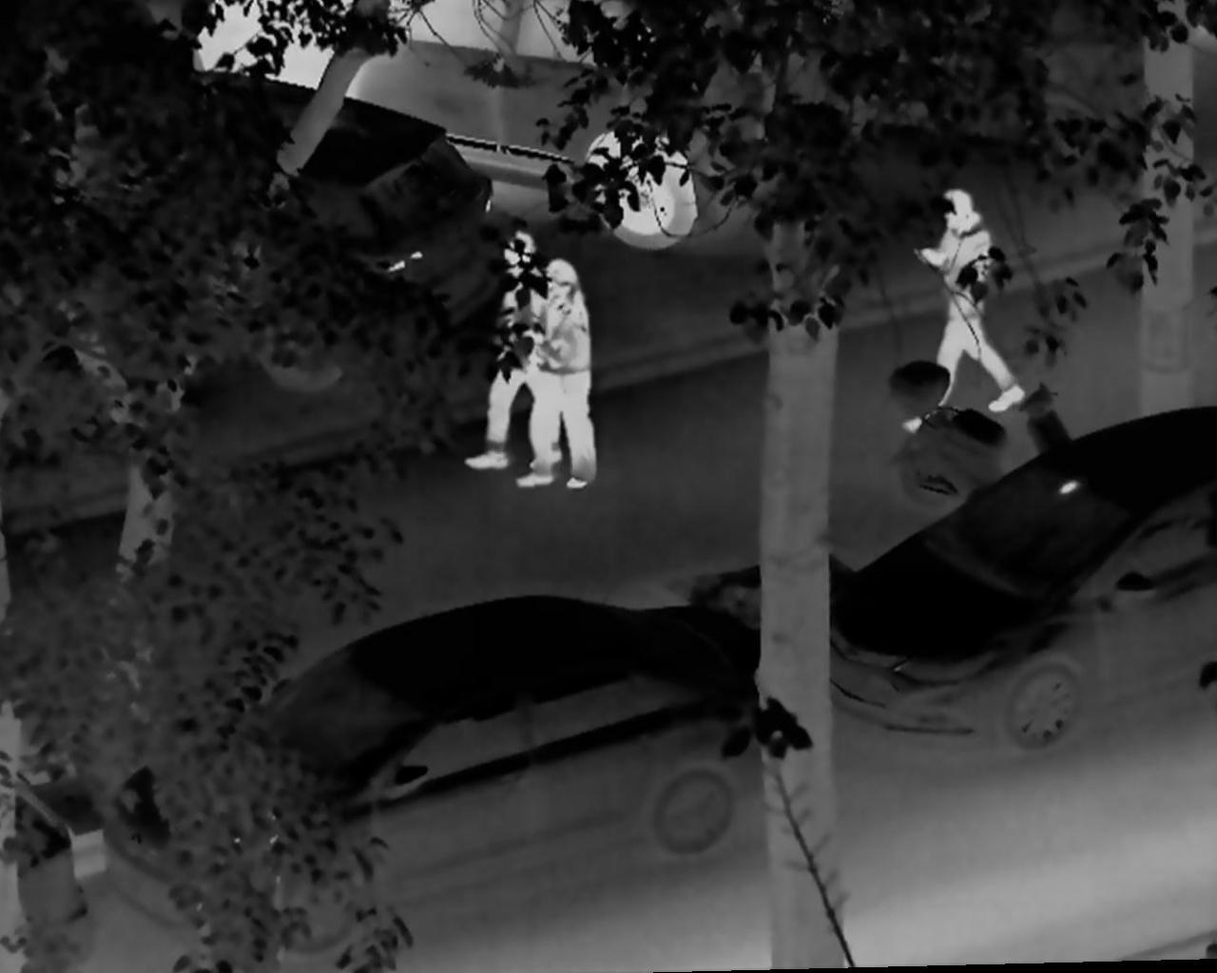person: (898, 187, 1031, 437), (465, 228, 561, 474), (514, 259, 602, 493)
